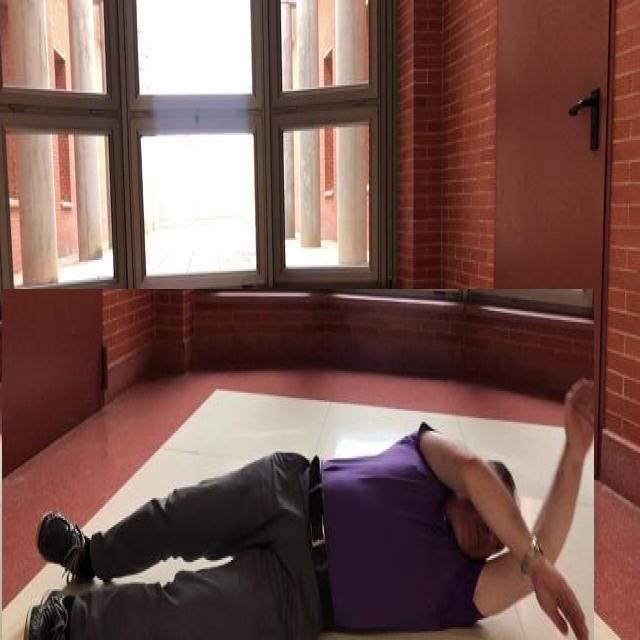Fall: (2, 395, 629, 640)
